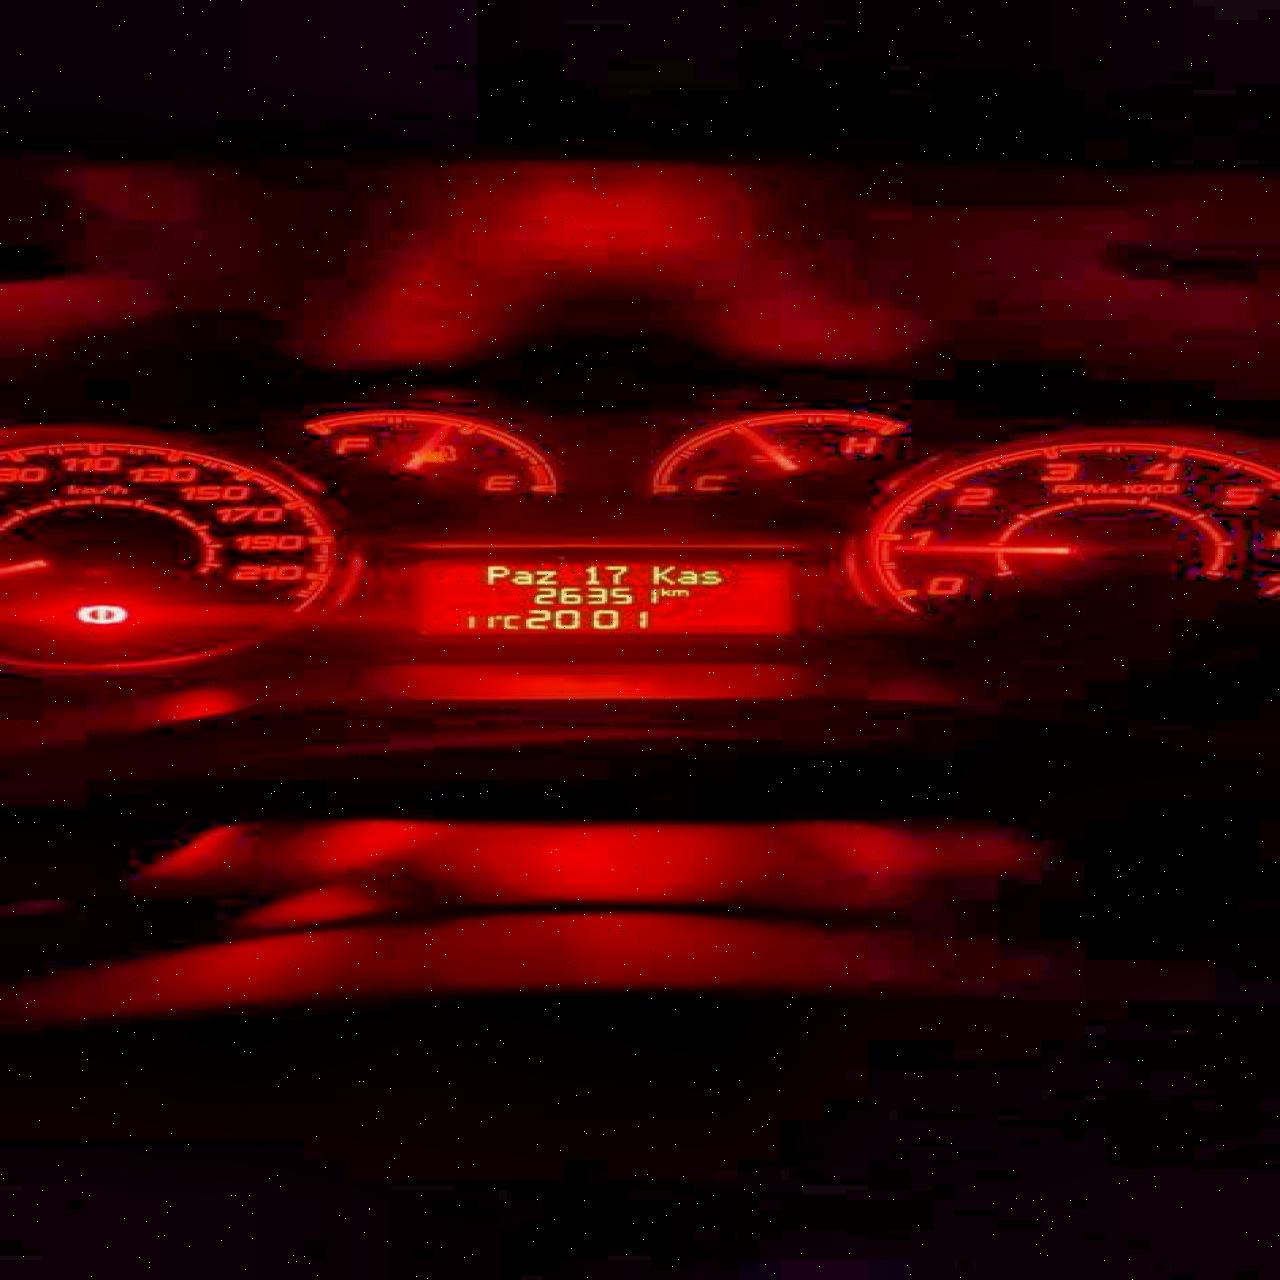0: (588, 607, 619, 628), (551, 607, 580, 628)
1: (580, 564, 599, 584), (645, 587, 659, 604), (635, 611, 648, 628), (463, 613, 475, 627), (483, 613, 493, 627)
2: (520, 607, 551, 627), (529, 586, 556, 604)
3: (584, 586, 605, 604)
5: (607, 586, 632, 604)
6: (556, 586, 580, 604)
7: (601, 564, 626, 584)
X: (648, 564, 673, 584), (483, 564, 508, 583), (508, 568, 532, 584), (531, 568, 556, 584), (696, 568, 721, 584), (673, 568, 696, 584), (499, 613, 520, 628), (667, 588, 686, 595), (659, 586, 670, 595)
odometer: (407, 557, 805, 638)
